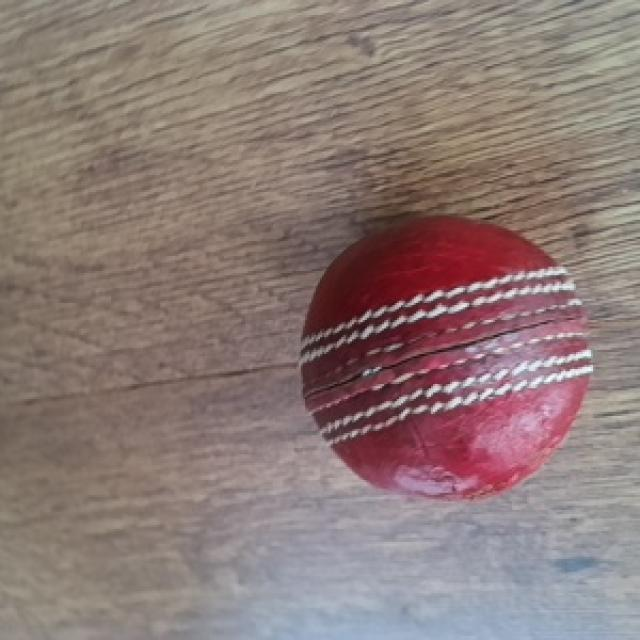ball: (302, 219, 588, 501)
